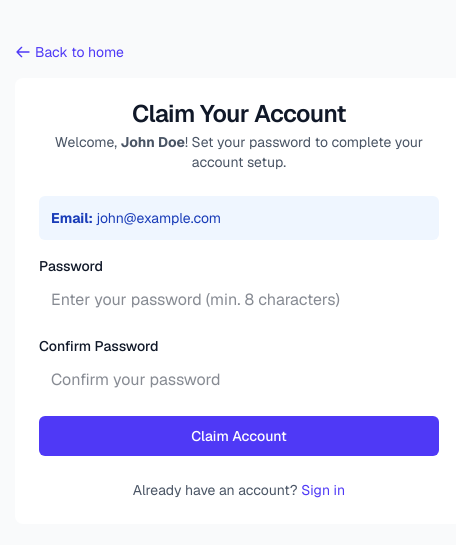
Scenario: ClaimAccountPage › should successfully claim account and redirect to dashboard
The image size is (456, 545).
In the password field labelled "Password": point(239, 300) [39,280,439,320], type "password123"
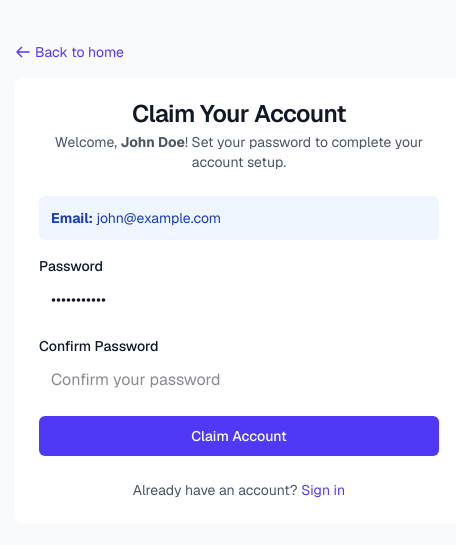
In the password field labelled "Confirm Password": point(239, 380) [39,360,439,400], type "password123"
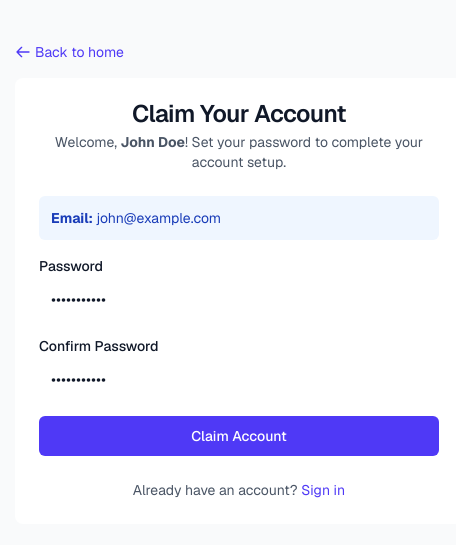
Click the button "Claim Account": point(239, 436) [39,416,439,456]
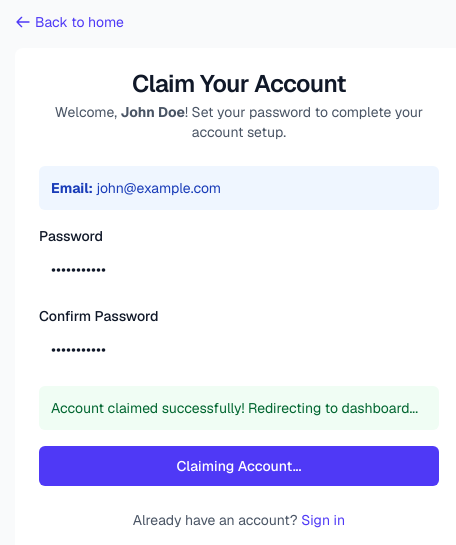
Expected: the text "Account claimed successfully! Redirecting to dashboard..." is shown, [51,398,427,418]
